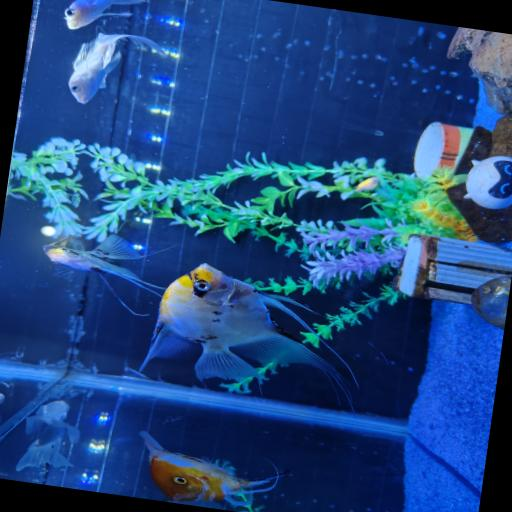Fish: (140, 263, 349, 396), (140, 431, 290, 505), (43, 234, 164, 315), (69, 32, 164, 103), (16, 400, 80, 470), (16, 425, 73, 470), (26, 400, 80, 443), (65, 0, 145, 28), (355, 176, 379, 191), (0, 393, 4, 403), (0, 415, 1, 421)
